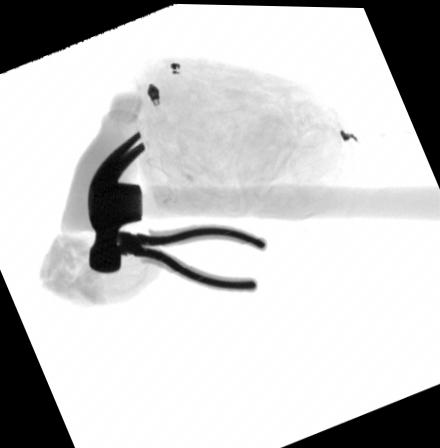Hammer: (86, 130, 440, 272)
Pliers: (97, 224, 267, 292)
